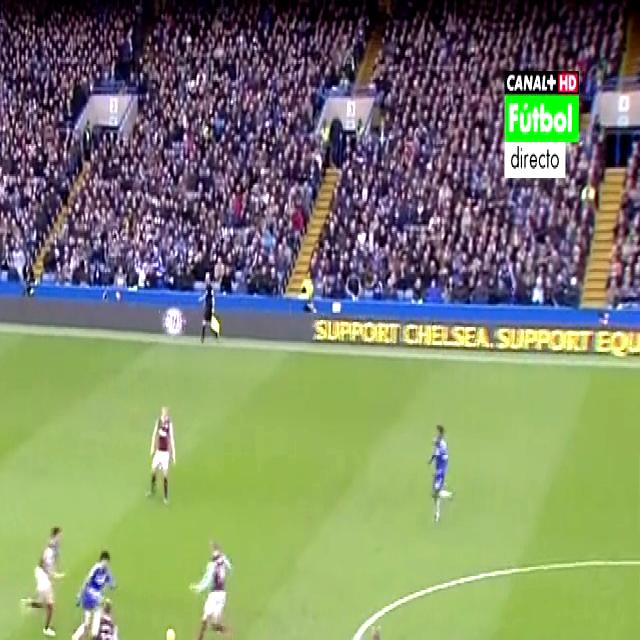ball: (164, 613, 181, 640)
referee: (193, 271, 224, 349), (354, 615, 397, 640)
soccer-player: (183, 524, 239, 640), (20, 514, 66, 640), (71, 533, 117, 640), (424, 412, 456, 531), (147, 397, 179, 513), (89, 595, 121, 640)
